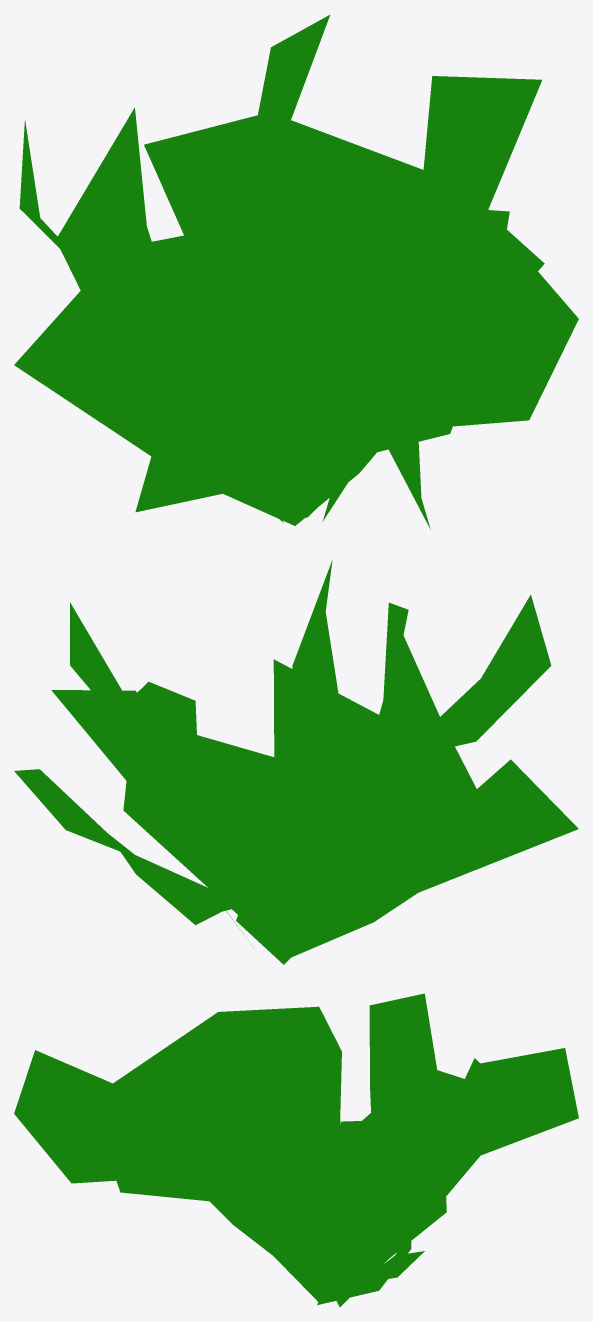
File: Deadbush_3.fbx
3 views of the same model, one above another, from view 1: azimuth 30°, elevation 25°; view 2: azimuth 150°, elevation 25°; view 3: azimuth 270°, elevation 25° (orthographic). The views are drawn at different scales.
Visible parts, largest first — view 1: Deadbush_3; view 2: Deadbush_3; view 3: Deadbush_3.
Boxes of the visible parts, x1,y1,x2,y2 form: Deadbush_3: (14, 15, 578, 529); Deadbush_3: (14, 560, 578, 964); Deadbush_3: (14, 993, 578, 1306).
Size of the model in its own units: 121 by 83.64 by 155.
